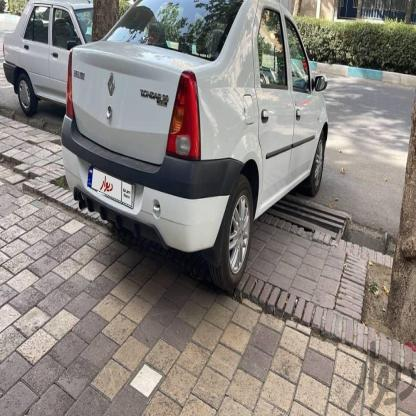Car: (70, 0, 332, 291), (0, 0, 114, 115)
